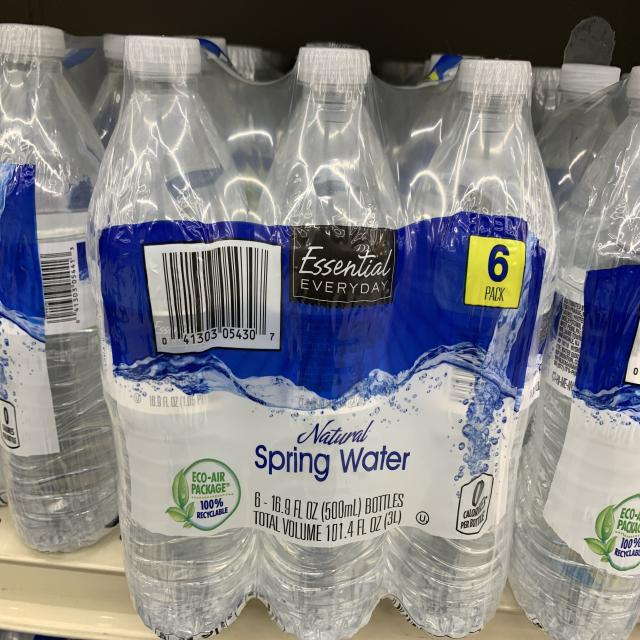plastic_bottle: (86, 36, 559, 638)
